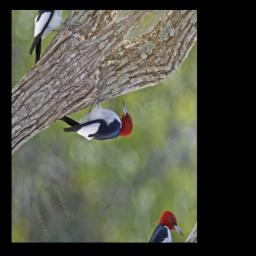Woodpecker: (56, 69, 140, 177)
